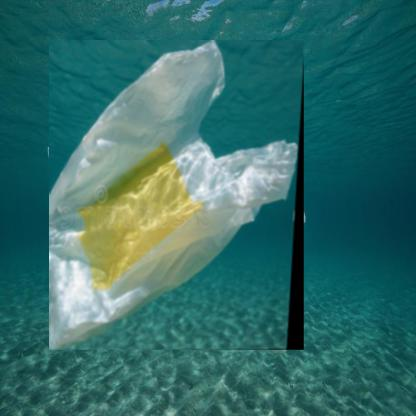plastic-bag: (49, 40, 305, 351)
